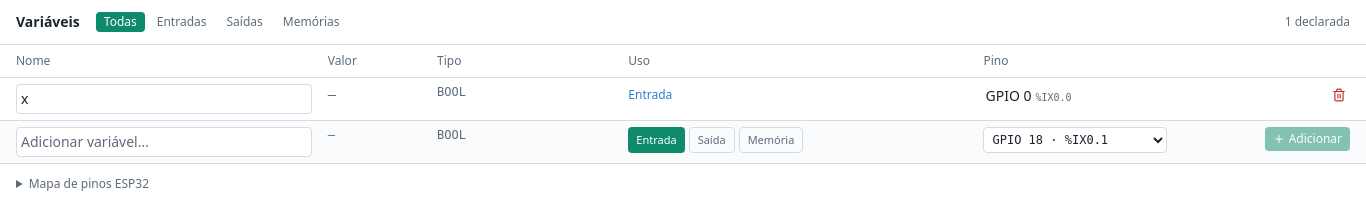
Test case: PainelVariaveis — editar e remover via núcleo › edita o pino de entrada para saída (o núcleo decide, não a UI)
Click the button with aria-label "Alterar pino de x" at [1075, 96], box 984,84 -> 1167,108
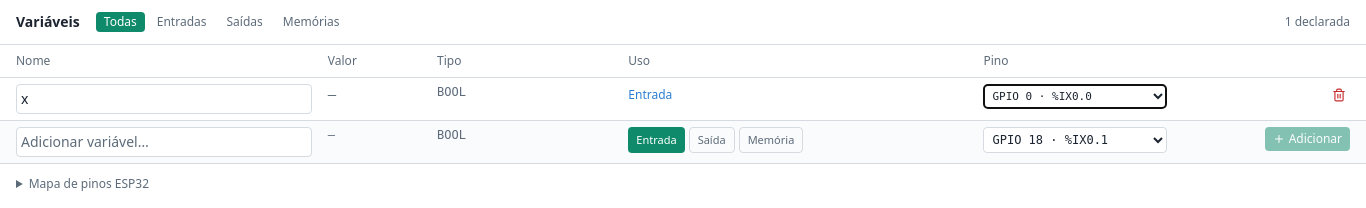
Select "GPIO 2 · %QX0.0" in the dropdown named "Pino da variável x" at [1075, 96], box 984,84 -> 1167,109
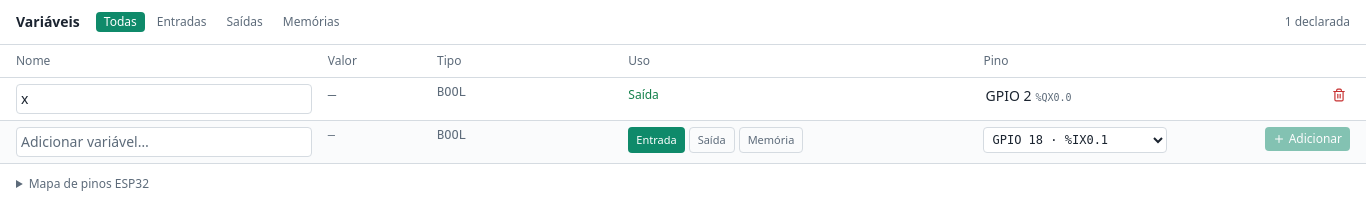
Click the button with aria-label "Alterar pino de x" at [1075, 96], box 984,84 -> 1167,108
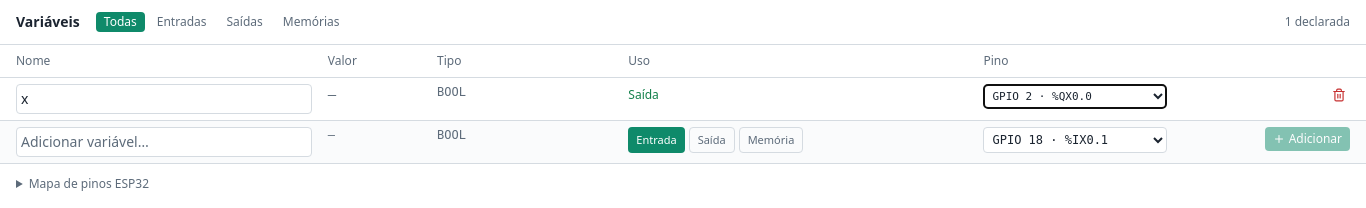
expect the dropdown named "Pino da variável x" shows "GPIO 2 · %QX0.0": met, box 984,84 -> 1167,109
